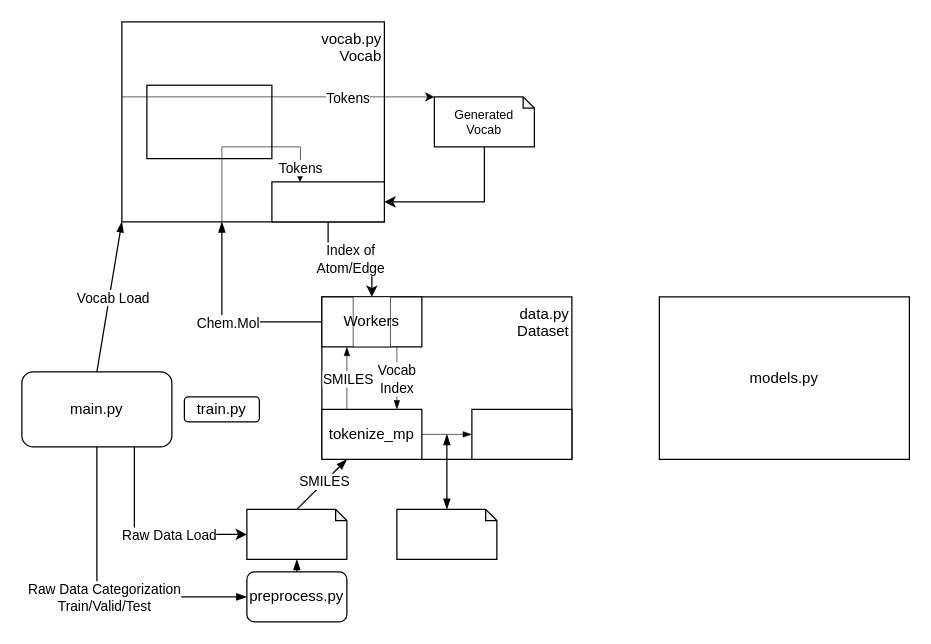
Image size: 931x644. Some labels were removed from this diagram. Here are the shapes that lost their labels. From the top down, the box of each, then its label:
(146, 84, 272, 159): Tokenizer
(271, 181, 384, 222): Index tokens by vocab
(471, 408, 572, 459): collate_fn
(246, 508, 347, 559): Train/Valid/Test SMILES
(396, 508, 497, 559): Tokenized Data
